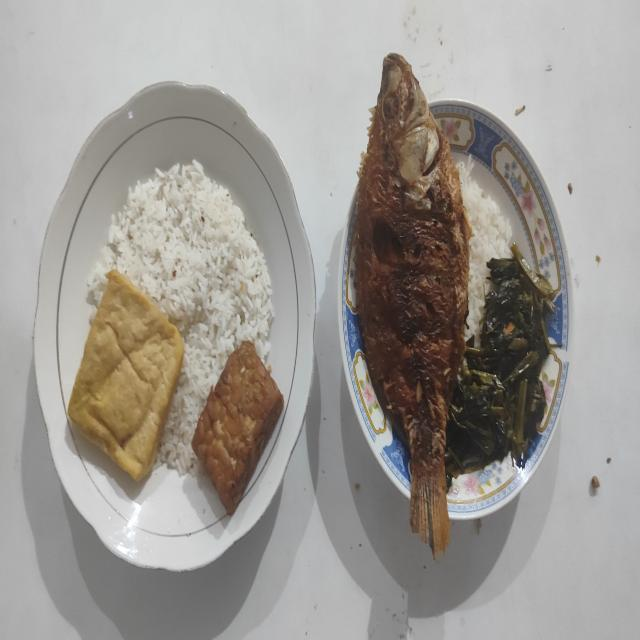ikan_mujair: (354, 54, 472, 559)
nasi_putih: (87, 160, 275, 477), (456, 161, 512, 340)
tahu_goreng: (68, 270, 184, 480)
tempe_goreng: (192, 342, 284, 514)
tumis_kangkung: (445, 244, 555, 492)
